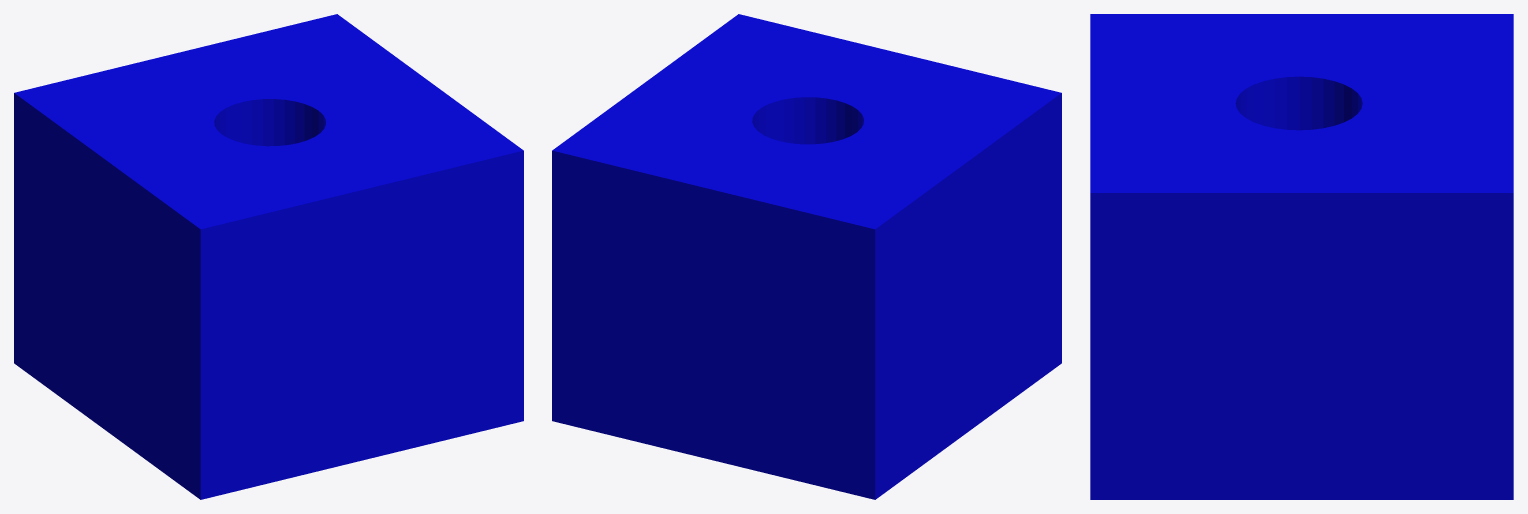
The model's file is insert_task_block1.dae.
The picture shows the model from 3 angles, left to right: view 1: azimuth 30°, elevation 25°; view 2: azimuth 150°, elevation 25°; view 3: azimuth 270°, elevation 25°; orthographic projection. The views are drawn at different scales.
Visible parts, largest first — view 1: Cube; view 2: Cube; view 3: Cube.
Part boxes in pixels (box(x1,y1,x2,y2)): Cube: box(14, 14, 523, 499); Cube: box(552, 14, 1061, 499); Cube: box(1090, 14, 1513, 499).
Bounding box in the file's own units: 0.2 × 0.2 × 0.16.
